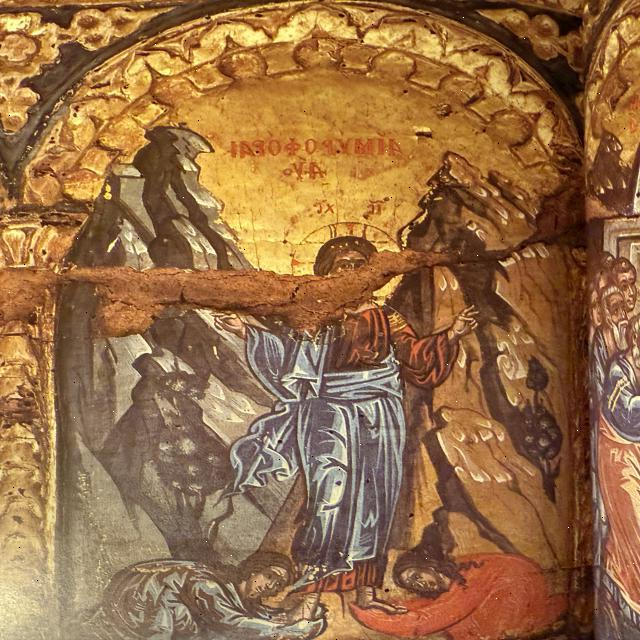aura: (287, 220, 404, 306)
christ: (184, 216, 500, 611)
